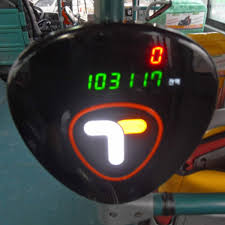terminal: (6, 19, 220, 207)
